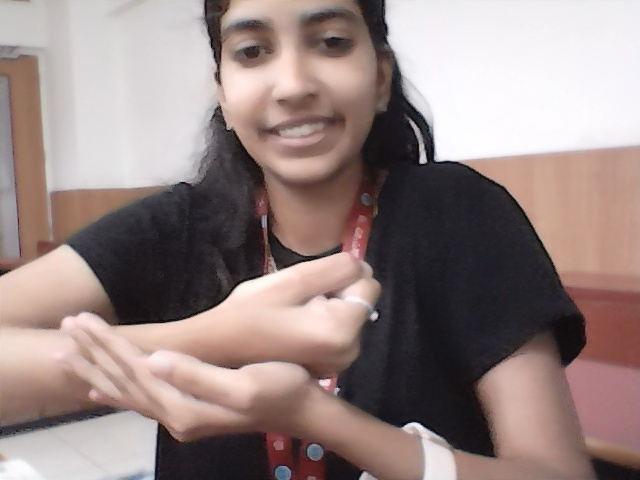Baby: (44, 214, 397, 461)
